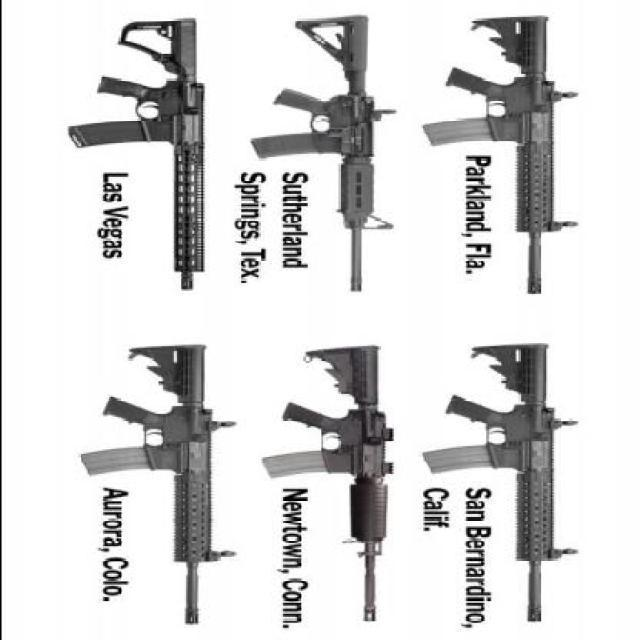weapon: (77, 343, 236, 623), (422, 342, 579, 622), (422, 14, 579, 292), (250, 12, 396, 290), (66, 17, 204, 290), (260, 343, 394, 620)
